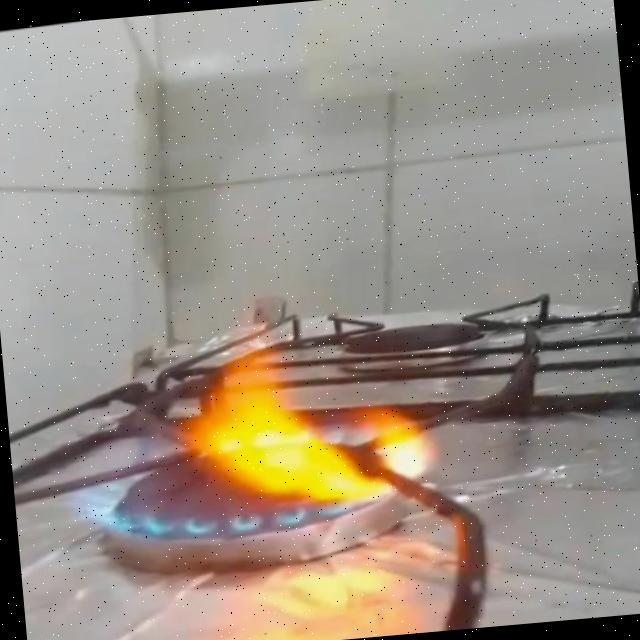fire: (41, 264, 459, 556)
